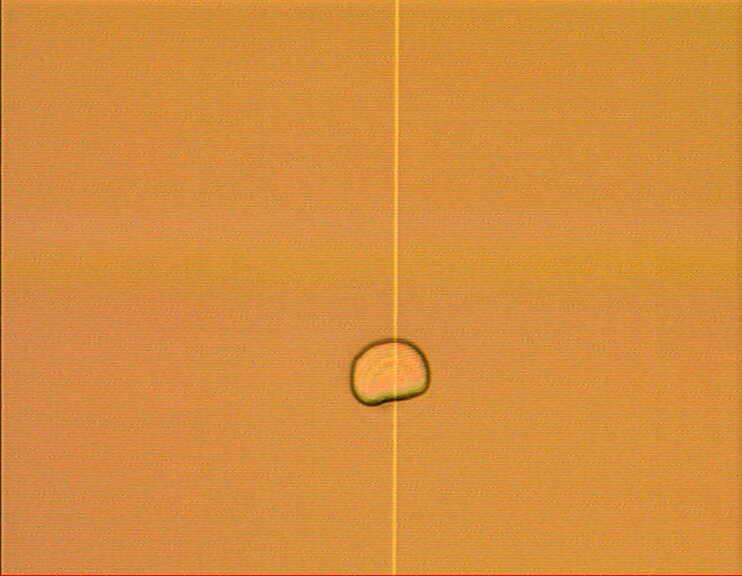PIQ PARTICLE: (348, 337, 436, 409)
